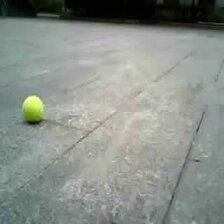tennis: (21, 96, 44, 120)
